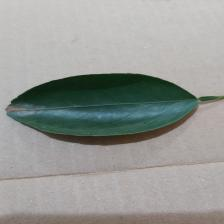healthy: (23, 56, 200, 142)
